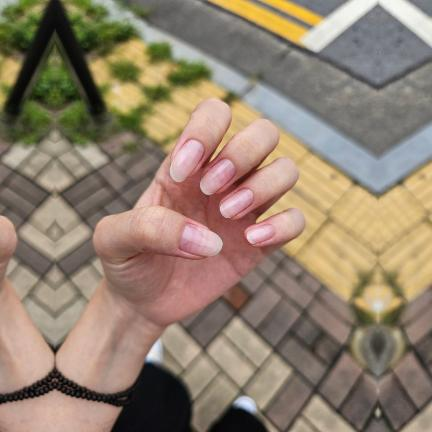Nail: (169, 139, 204, 182), (178, 223, 222, 256), (199, 159, 235, 195), (219, 188, 253, 219), (246, 224, 275, 245)
